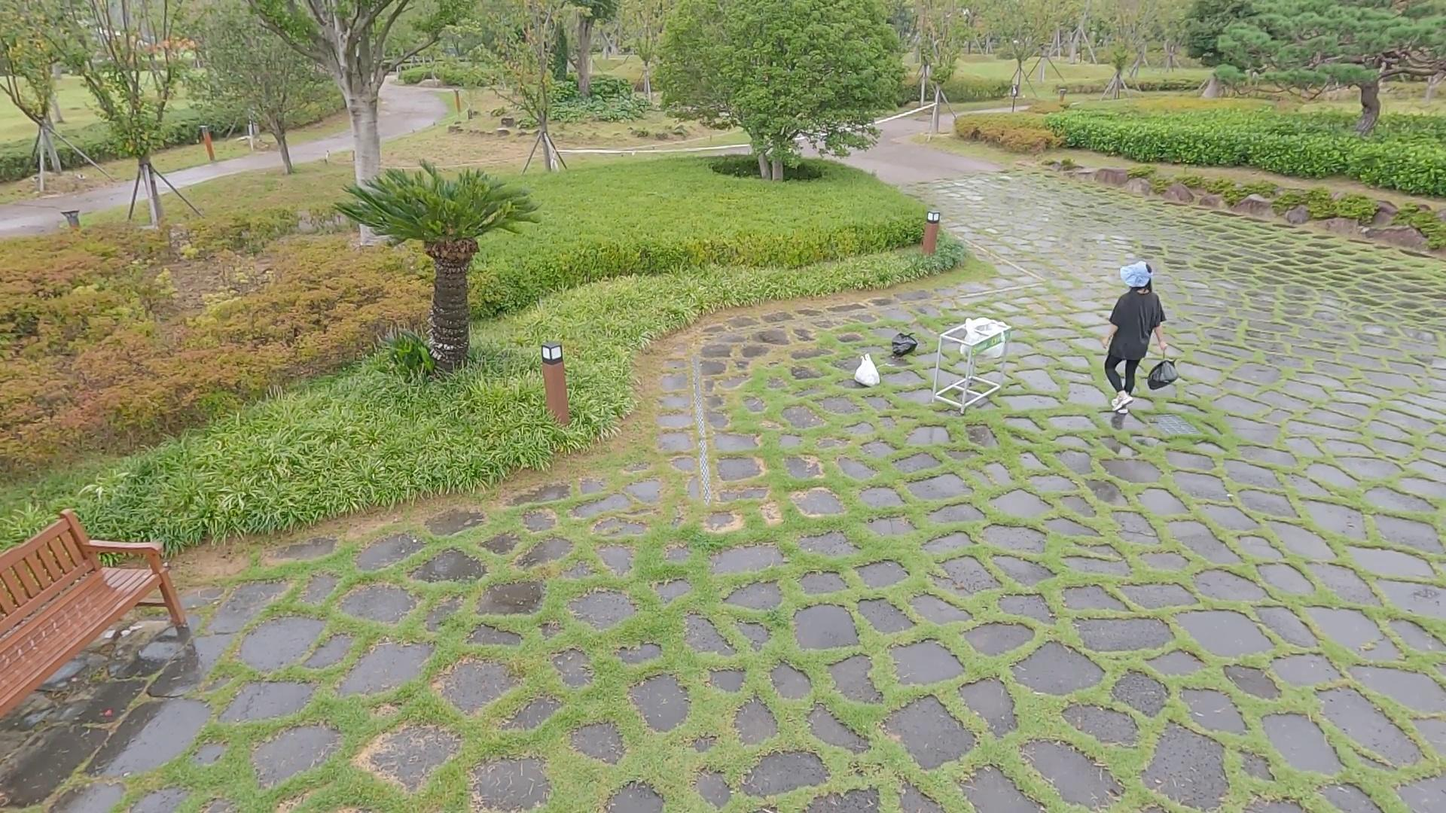person: (1103, 257, 1171, 417)
trash: (852, 353, 882, 388), (1147, 359, 1179, 391), (891, 330, 918, 360)
